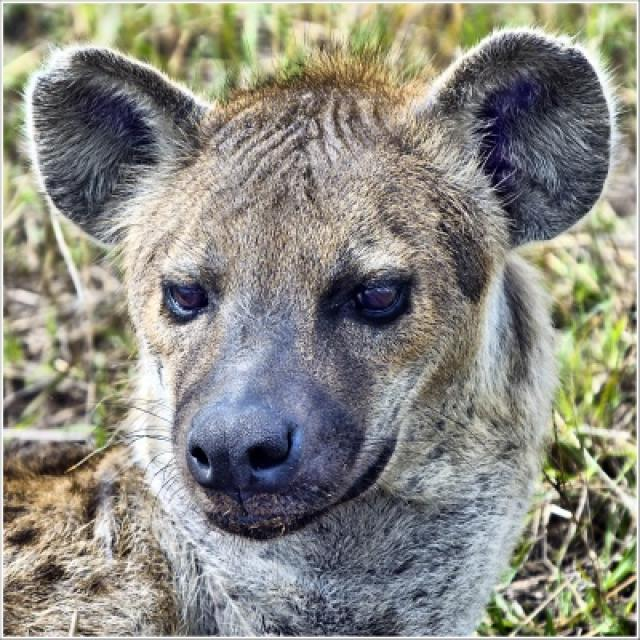hyena: (24, 29, 611, 638)
